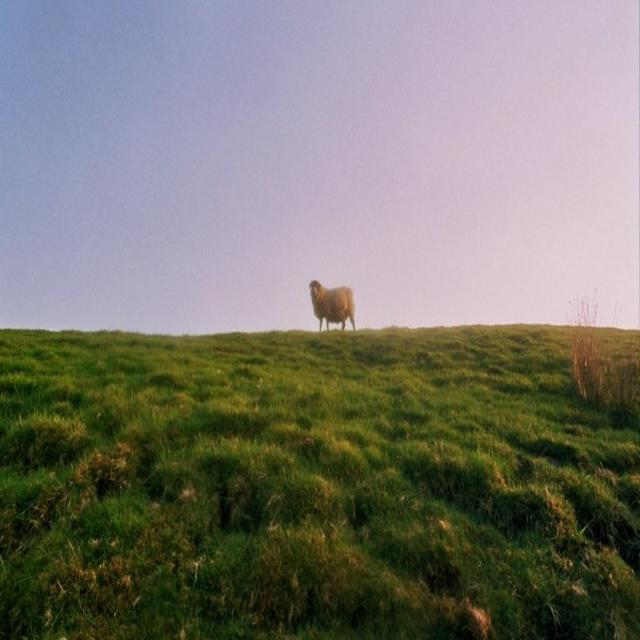Sheep: (308, 282, 357, 330)
